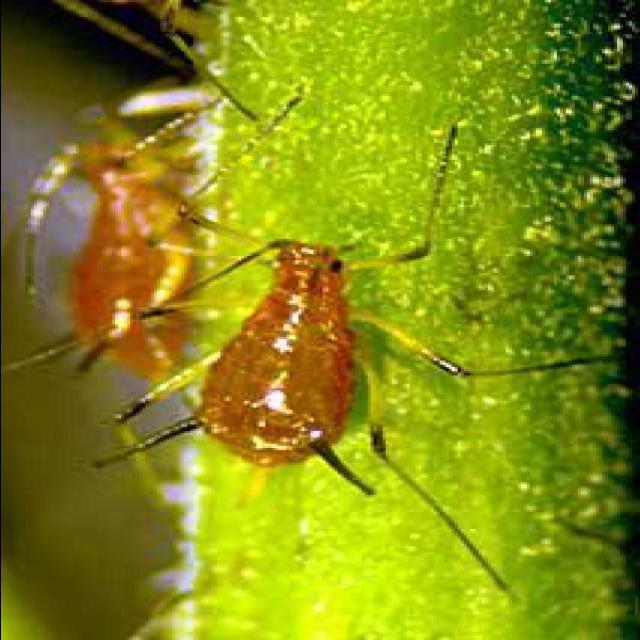aphid: (171, 179, 517, 553), (13, 108, 200, 373)
